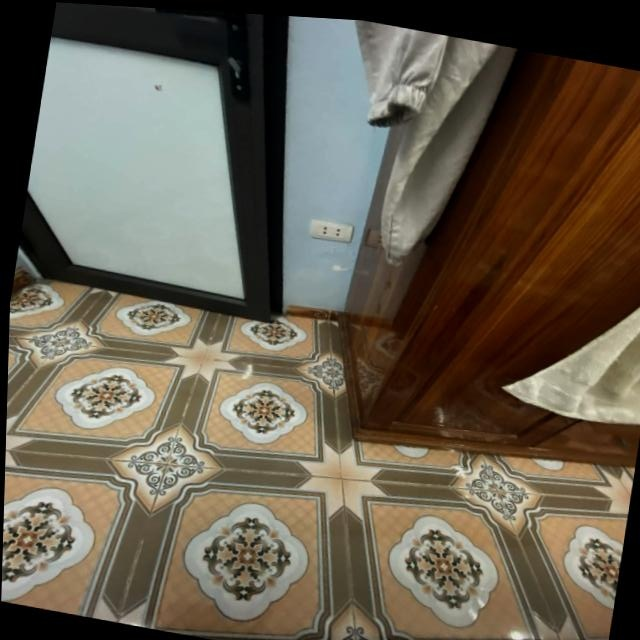outlet: (308, 219, 354, 246)
